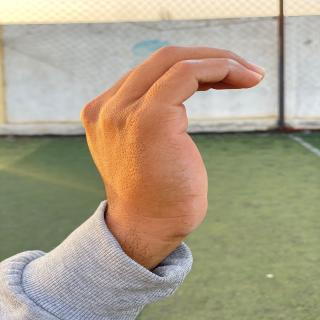HAA: (64, 28, 297, 246)
